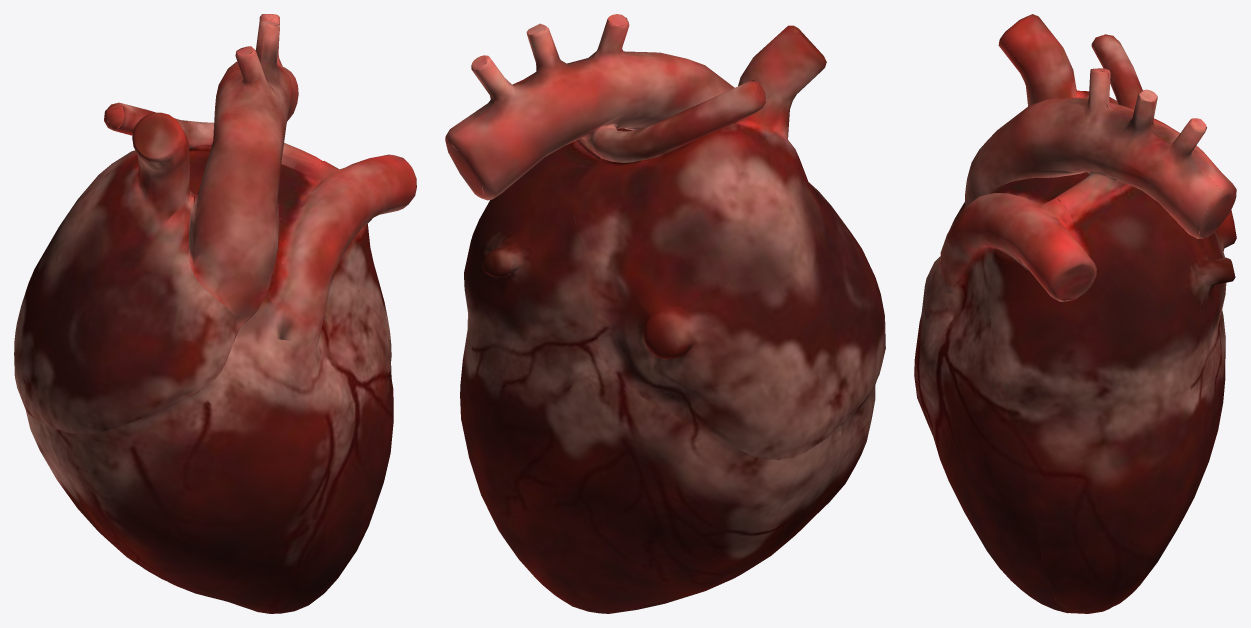
File: heart.glb
The picture shows the model from 3 angles, left to right: view 1: azimuth 30°, elevation 25°; view 2: azimuth 150°, elevation 25°; view 3: azimuth 270°, elevation 25°; orthographic projection. The views are drawn at different scales.
Visible parts, largest first — view 1: Heart; view 2: Heart; view 3: Heart.
Part boxes in pixels (x1,y1,x2,y2): Heart: (14, 14, 416, 613); Heart: (445, 14, 885, 613); Heart: (914, 14, 1236, 613).
Size of the model in its own units: 0.0879 by 0.13 by 0.0715.
1 material, 1 textured.
